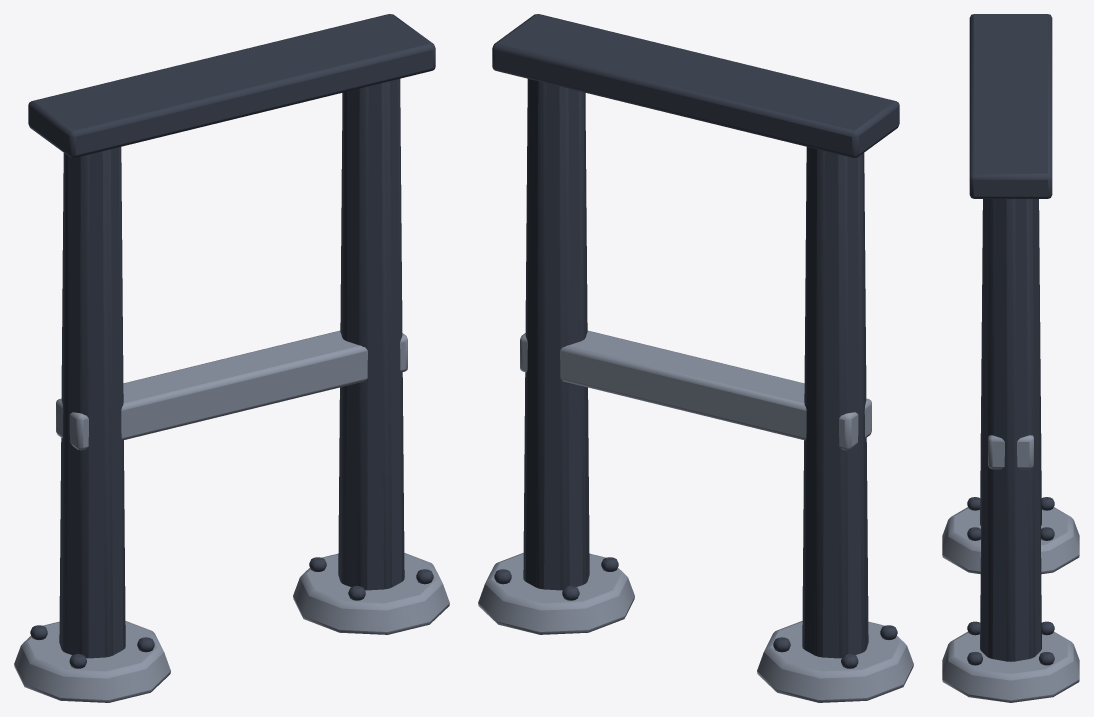
Rendered from band_stuetze_hoch.fbx.
The picture shows the model from 3 angles, left to right: view 1: azimuth 30°, elevation 25°; view 2: azimuth 150°, elevation 25°; view 3: azimuth 270°, elevation 25°; orthographic projection. The views are drawn at different scales.
Visible parts, largest first — view 1: band_stuetze_hoch_Koerper; view 2: band_stuetze_hoch_Koerper; view 3: band_stuetze_hoch_Koerper.
Part boxes in pixels (<box>): band_stuetze_hoch_Koerper: <box>14,14,449,702</box>; band_stuetze_hoch_Koerper: <box>478,14,913,702</box>; band_stuetze_hoch_Koerper: <box>942,14,1079,702</box>.
Size of the model in its own units: 0.9536 by 1.24 by 0.2983.
